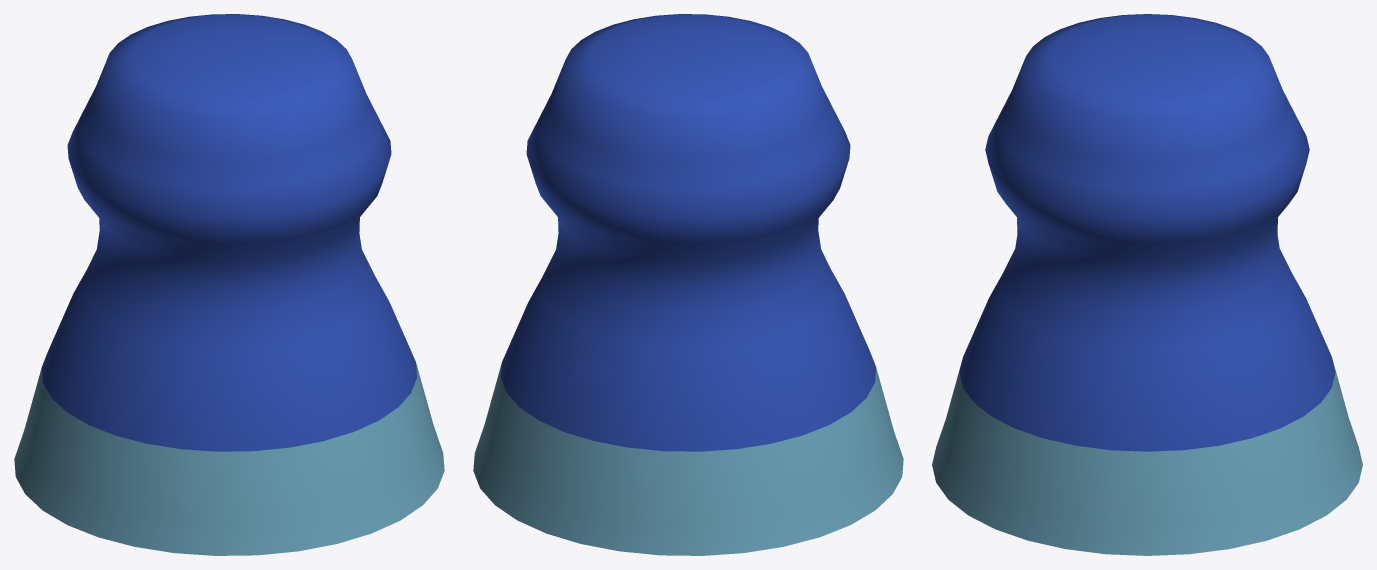
Rendered from body.gltf.
3 views of the same model, side by side, from view 1: azimuth 30°, elevation 25°; view 2: azimuth 150°, elevation 25°; view 3: azimuth 270°, elevation 25° (orthographic).
Parts seen in each view (by area): view 1: Sphere.136; view 2: Sphere.136; view 3: Sphere.136.
Boxes of the visible parts, x1,y1,x2,y2 form: Sphere.136: (14,14,444,555); Sphere.136: (473,14,903,555); Sphere.136: (932,14,1362,555).
Size of the model in its own units: 0.3694 by 0.3939 by 0.3694.
2 materials, 2 textured.
